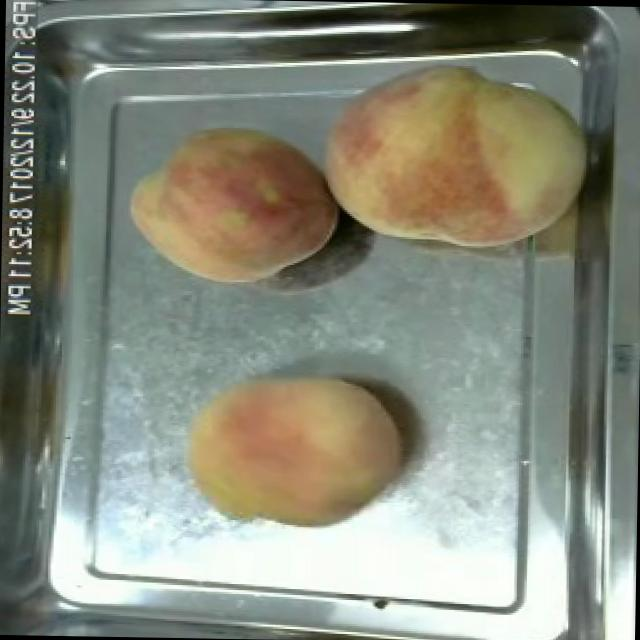Fruit: (308, 42, 600, 259), (174, 360, 413, 540), (117, 115, 348, 292)
